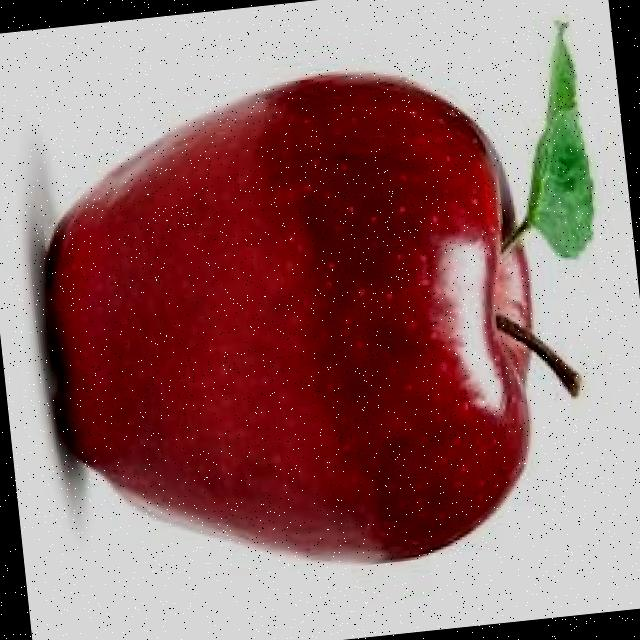apple: (20, 52, 557, 598)
